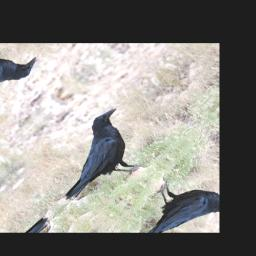Crow: (33, 104, 170, 218)
